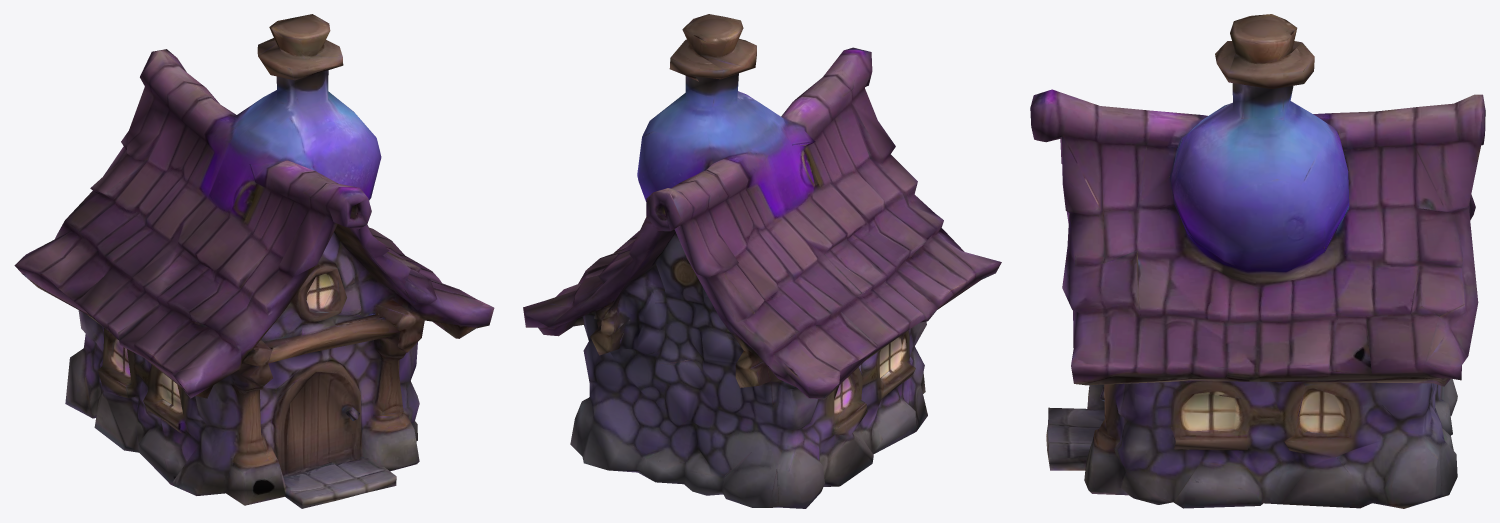
Rendered from potion-house.lod1.glb.
3 views of the same model, side by side, from view 1: azimuth 30°, elevation 25°; view 2: azimuth 150°, elevation 25°; view 3: azimuth 270°, elevation 25° (orthographic). The views are drawn at different scales.
Parts seen in each view (by area): view 1: Mesh1.0; view 2: Mesh1.0; view 3: Mesh1.0.
Part boxes in pixels (box(x1,y1,x2,y2)): Mesh1.0: box(14, 14, 494, 508); Mesh1.0: box(523, 14, 1001, 508); Mesh1.0: box(1030, 14, 1485, 508).
Size of the model in its own units: 1.67 by 1.99 by 1.85.
Materials: 1 (1 with a texture image).
